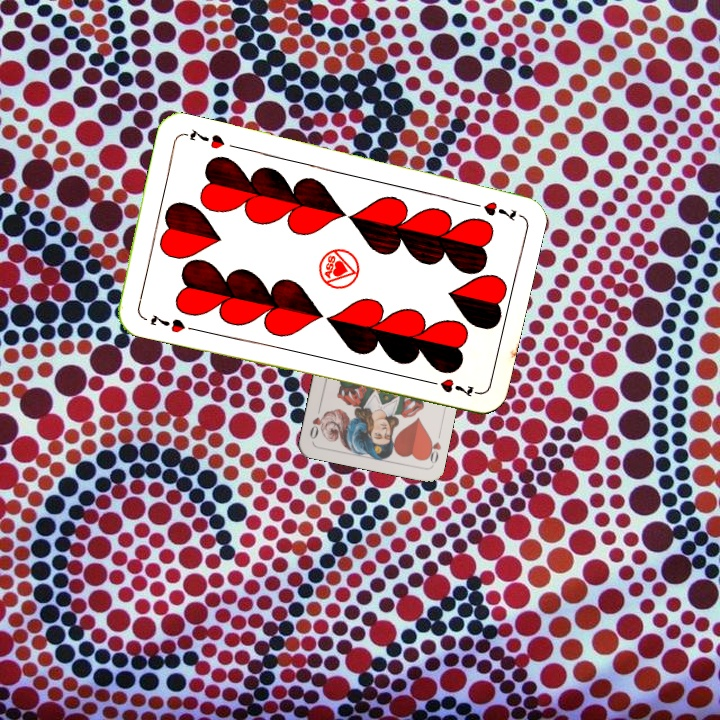H7: (463, 197, 519, 223), (146, 310, 188, 336)
HO: (421, 433, 444, 467)
